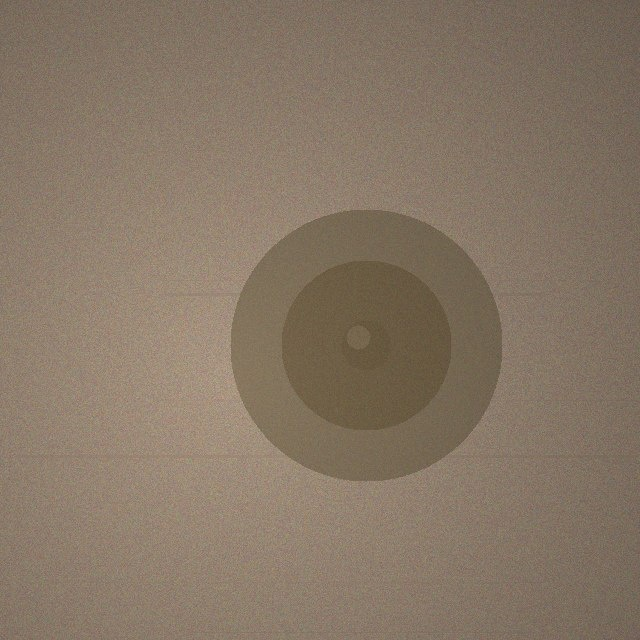good: (230, 209, 502, 481)
